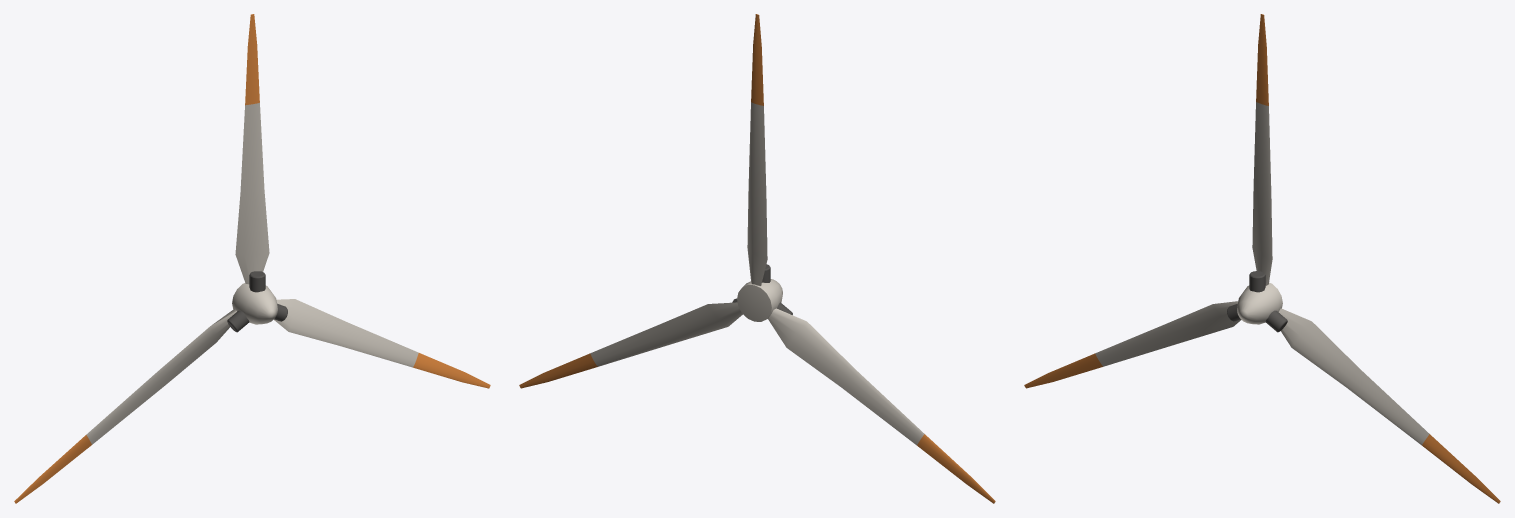
The model's file is rotor.glb.
The picture shows the model from 3 angles, left to right: view 1: azimuth 30°, elevation 25°; view 2: azimuth 150°, elevation 25°; view 3: azimuth 330°, elevation 25°; orthographic projection.
Visible parts, largest first — view 1: rotor; view 2: rotor; view 3: rotor.
Boxes of the visible parts, left/top/right/bottom form: rotor: left=14, top=14, right=490, bottom=503; rotor: left=519, top=14, right=995, bottom=503; rotor: left=1024, top=14, right=1500, bottom=503.
Bounding box in the file's own units: 13.65 × 11.82 × 1.17.
